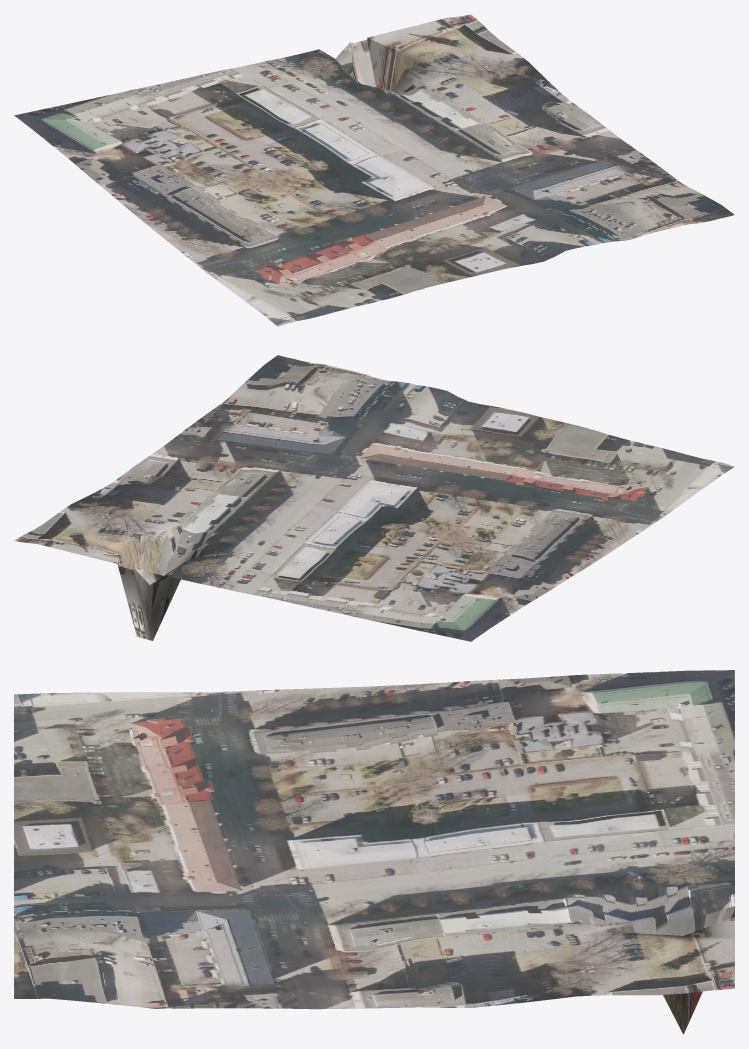
The model's file is CM_Terrain_24486978_6820613.fbx.
3 renders of one model, top to bottom at view 1: azimuth 30°, elevation 25°; view 2: azimuth 150°, elevation 25°; view 3: azimuth 270°, elevation 25°, orthographic. The views are drawn at different scales.
Visible parts, largest first — view 1: CM_Terrain_24486978_6820613_LOD0; view 2: CM_Terrain_24486978_6820613_LOD0; view 3: CM_Terrain_24486978_6820613_LOD0.
Part boxes in pixels (bbox=[...]): CM_Terrain_24486978_6820613_LOD0: bbox=[14, 14, 734, 326]; CM_Terrain_24486978_6820613_LOD0: bbox=[14, 355, 734, 641]; CM_Terrain_24486978_6820613_LOD0: bbox=[14, 670, 734, 1034].
Size of what is drawn, in the model's own units: 205 by 40.74 by 205.
